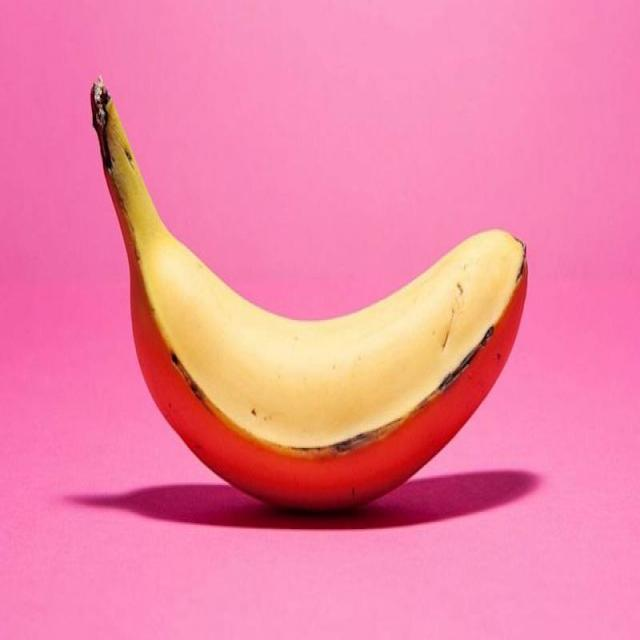Banana: (88, 86, 530, 503)
